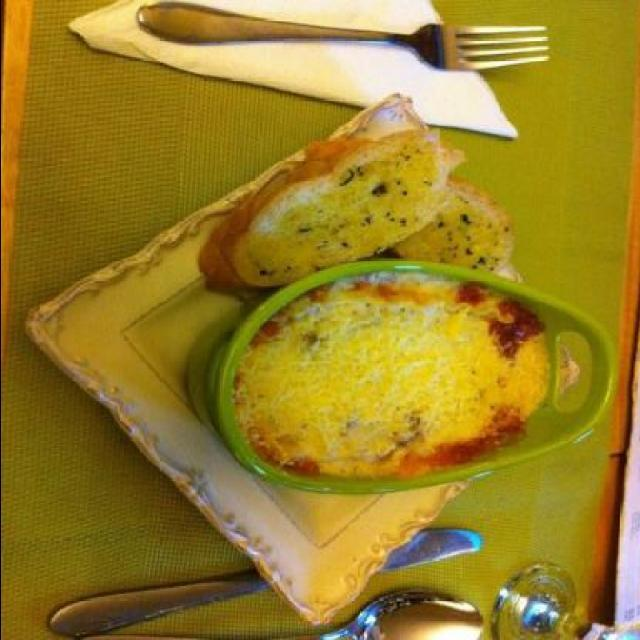Lasagna: (235, 294, 559, 473)
